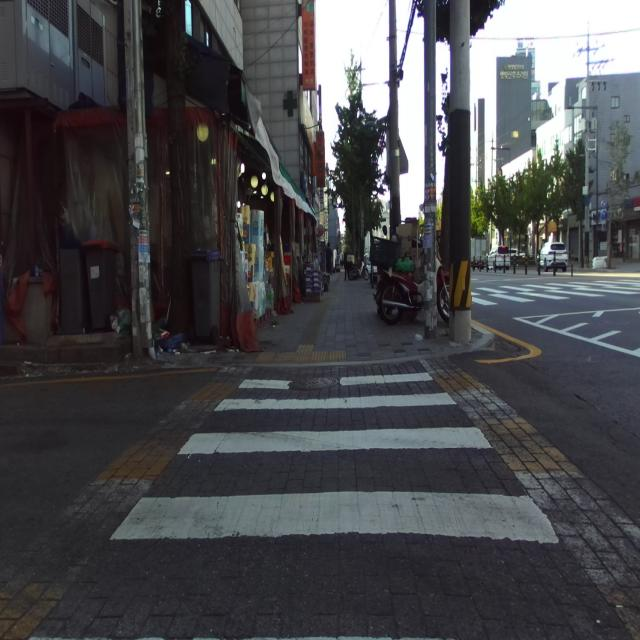횡단보도: (110, 372, 559, 544), (472, 270, 640, 306)
